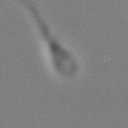normal: (16, 1, 63, 43)
